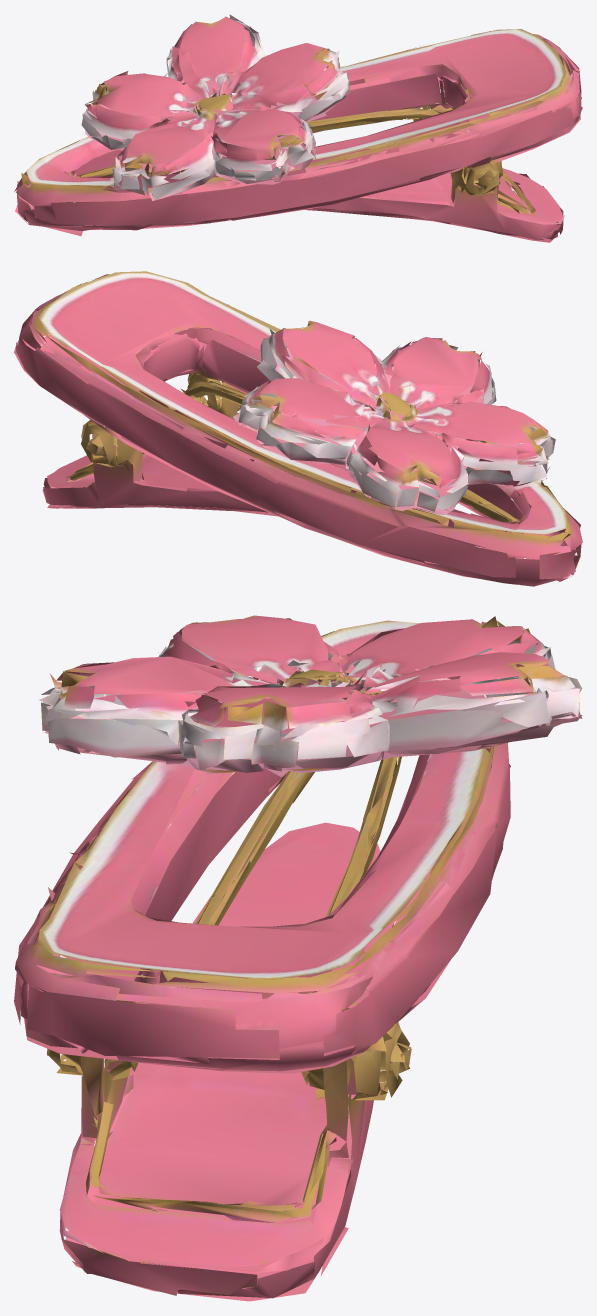
Rendered from gear_hair.glb.
3 renders of one model, top to bottom at view 1: azimuth 30°, elevation 25°; view 2: azimuth 150°, elevation 25°; view 3: azimuth 270°, elevation 25°, orthographic. The views are drawn at different scales.
Visible parts, largest first — view 1: gear_hair; view 2: gear_hair; view 3: gear_hair.
Boxes of the visible parts, left/top/right/bottom form: gear_hair: left=14, top=14, right=582, bottom=242; gear_hair: left=14, top=271, right=582, bottom=586; gear_hair: left=14, top=615, right=582, bottom=1301.
Bounding box in the file's own units: 1.33 × 0.5007 × 0.6513.
Materials: 1 (1 with a texture image).
